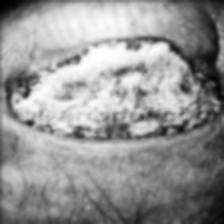Toxin: (0, 40, 224, 108), (28, 121, 213, 142)
